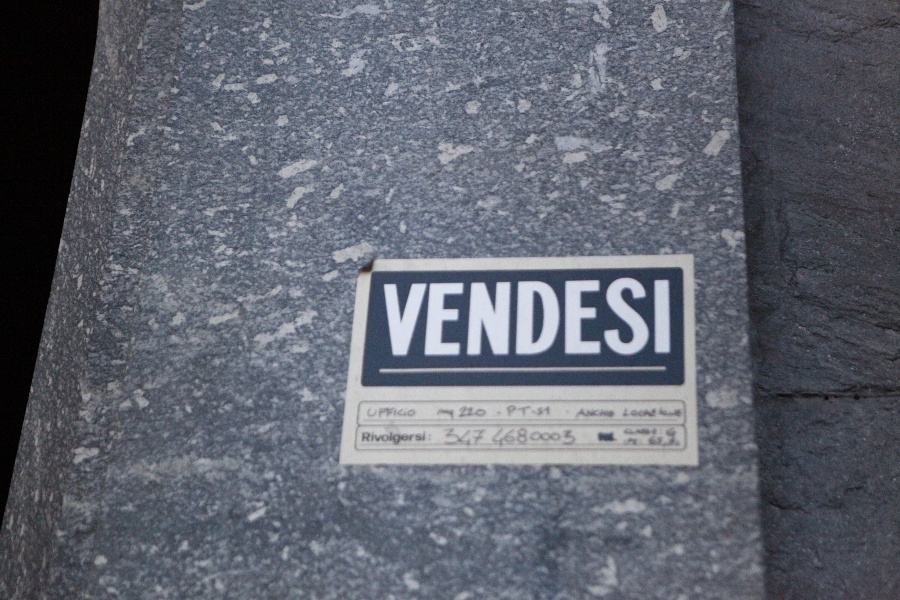text: (385, 275, 400, 360), (401, 275, 416, 360), (417, 275, 432, 360), (433, 275, 448, 360), (449, 275, 464, 360), (465, 275, 480, 360), (481, 275, 496, 360), (497, 275, 512, 360), (513, 275, 528, 360), (529, 275, 544, 360), (545, 275, 560, 360), (561, 275, 576, 360), (577, 275, 592, 360), (593, 275, 608, 360), (609, 275, 624, 360), (625, 275, 640, 360), (641, 275, 656, 360), (657, 275, 672, 360), (379, 275, 384, 360), (497, 426, 512, 448), (513, 426, 528, 448), (529, 426, 544, 448), (545, 426, 560, 448), (561, 426, 576, 448), (449, 427, 464, 447), (465, 427, 480, 447), (513, 403, 528, 417), (529, 403, 544, 417), (369, 431, 384, 444), (385, 431, 400, 444), (401, 431, 416, 444), (401, 406, 417, 418), (417, 431, 431, 444), (369, 406, 384, 418), (385, 406, 400, 418), (465, 406, 480, 418), (593, 407, 608, 418), (625, 436, 640, 447), (641, 436, 656, 447), (657, 436, 672, 447), (481, 427, 489, 447), (625, 407, 640, 417), (641, 407, 656, 417), (625, 426, 640, 436), (641, 426, 656, 436), (579, 407, 592, 418), (659, 407, 672, 418), (437, 407, 448, 419), (673, 407, 683, 418), (443, 427, 448, 447), (361, 431, 368, 444), (673, 436, 681, 447), (492, 426, 496, 448), (673, 275, 674, 360), (545, 403, 551, 417), (609, 407, 616, 418), (481, 406, 487, 418), (507, 403, 512, 417), (449, 407, 454, 419), (459, 406, 464, 418), (657, 426, 663, 436), (622, 436, 624, 447), (577, 426, 578, 448), (367, 406, 368, 418), (657, 407, 658, 417), (623, 426, 624, 436)
